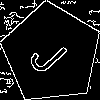J: (27, 28, 77, 78)
